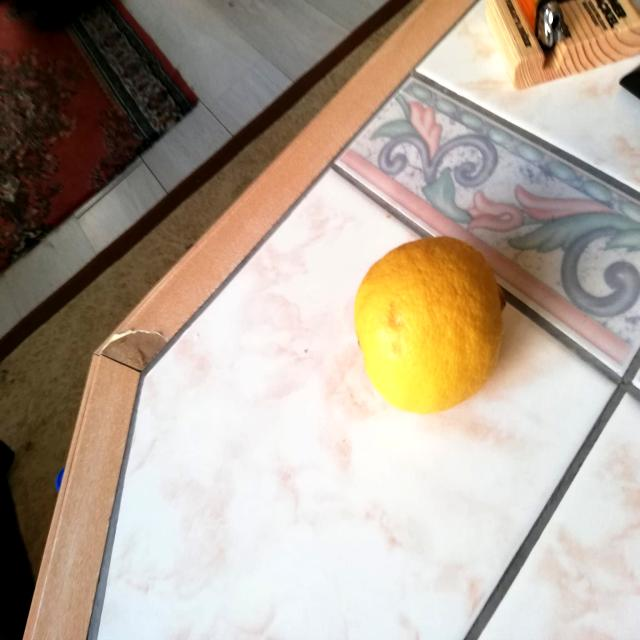lemon: (347, 221, 516, 422)
